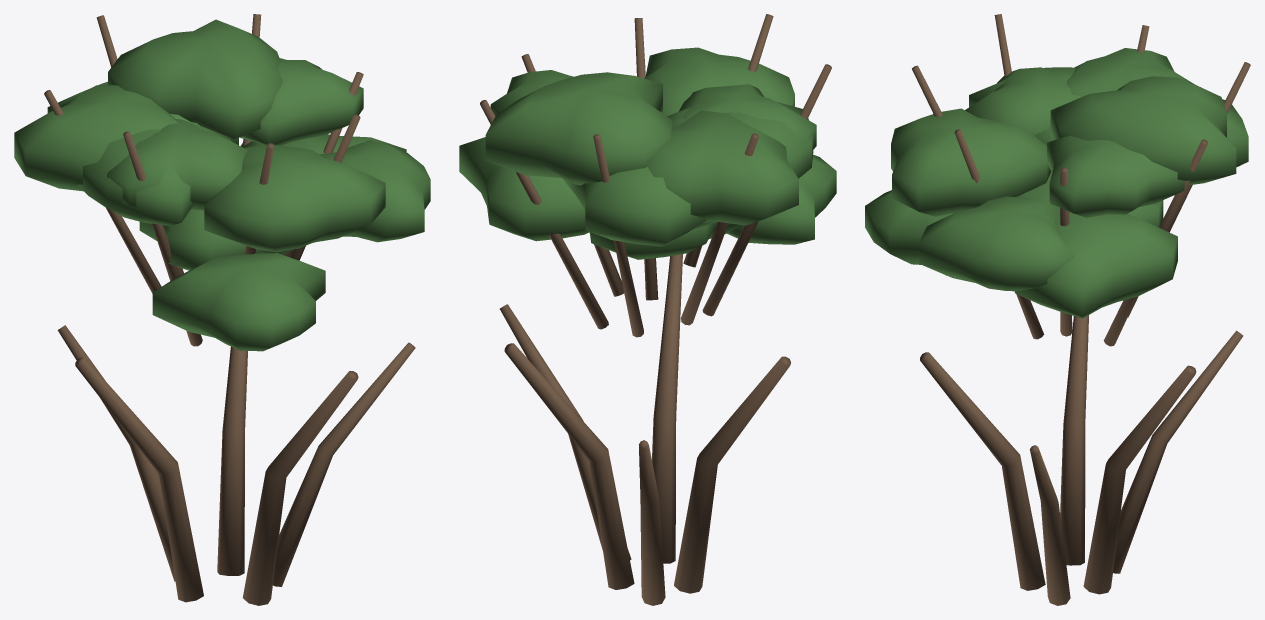
The model's file is tree_garden_e.glb.
The picture shows the model from 3 angles, left to right: view 1: azimuth 30°, elevation 25°; view 2: azimuth 150°, elevation 25°; view 3: azimuth 270°, elevation 25°; orthographic projection. The views are drawn at different scales.
Visible parts, largest first — view 1: Tint, Crown foliage.013, Crown foliage.019, Crown foliage.014, Crown foliage.017, Crown foliage.015, Crown foliage.020, Crown foliage.012, Crown foliage.016, Crown foliage.010, Crown foliage.011; view 2: Tint, Crown foliage.019, Crown foliage.017, Crown foliage.018, Crown foliage.011, Crown foliage.013, Crown foliage.014, Crown foliage.015, Crown foliage.016, Crown foliage.010, Crown foliage.020; view 3: Tint, Crown foliage.013, Crown foliage.019, Crown foliage.012, Crown foliage.011, Crown foliage.020, Crown foliage.015, Crown foliage.017, Crown foliage.014, Crown foliage.010, Crown foliage.018, Crown foliage.016.
Part boxes in pixels (x1=…): Tint: x1=44, y1=14, x2=415, y2=605; Crown foliage.013: x1=204, y1=144, x2=385, y2=252; Crown foliage.019: x1=108, y1=19, x2=282, y2=139; Crown foliage.014: x1=152, y1=253, x2=325, y2=351; Crown foliage.017: x1=14, y1=85, x2=177, y2=191; Crown foliage.015: x1=107, y1=119, x2=247, y2=210; Crown foliage.020: x1=239, y1=58, x2=363, y2=145; Crown foliage.012: x1=320, y1=140, x2=430, y2=242; Crown foliage.016: x1=77, y1=119, x2=232, y2=226; Crown foliage.010: x1=139, y1=209, x2=292, y2=270; Crown foliage.011: x1=241, y1=134, x2=406, y2=242; Tint: x1=480, y1=14, x2=831, y2=605; Crown foliage.019: x1=485, y1=72, x2=672, y2=185; Crown foliage.017: x1=647, y1=110, x2=798, y2=225; Crown foliage.018: x1=563, y1=166, x2=717, y2=246; Crown foliage.011: x1=459, y1=137, x2=589, y2=241; Crown foliage.013: x1=644, y1=47, x2=794, y2=116; Crown foliage.014: x1=727, y1=154, x2=836, y2=244; Crown foliage.015: x1=678, y1=84, x2=816, y2=150; Crown foliage.016: x1=667, y1=102, x2=813, y2=178; Crown foliage.010: x1=589, y1=222, x2=742, y2=259; Crown foliage.020: x1=490, y1=70, x2=573, y2=115; Tint: x1=912, y1=14, x2=1250, y2=605; Crown foliage.013: x1=891, y1=108, x2=1051, y2=216; Crown foliage.019: x1=1050, y1=76, x2=1236, y2=185; Crown foliage.012: x1=919, y1=196, x2=1074, y2=291; Crown foliage.011: x1=1014, y1=203, x2=1177, y2=318; Crown foliage.020: x1=1047, y1=136, x2=1184, y2=217; Crown foliage.015: x1=965, y1=67, x2=1081, y2=134; Crown foliage.017: x1=1067, y1=48, x2=1194, y2=96; Crown foliage.014: x1=865, y1=190, x2=953, y2=275; Crown foliage.010: x1=1017, y1=172, x2=1163, y2=227; Crown foliage.018: x1=1222, y1=99, x2=1248, y2=167; Crown foliage.016: x1=969, y1=67, x2=1075, y2=145.
Bounding box in the file's own units: 1.74 × 2.4 × 1.66.
